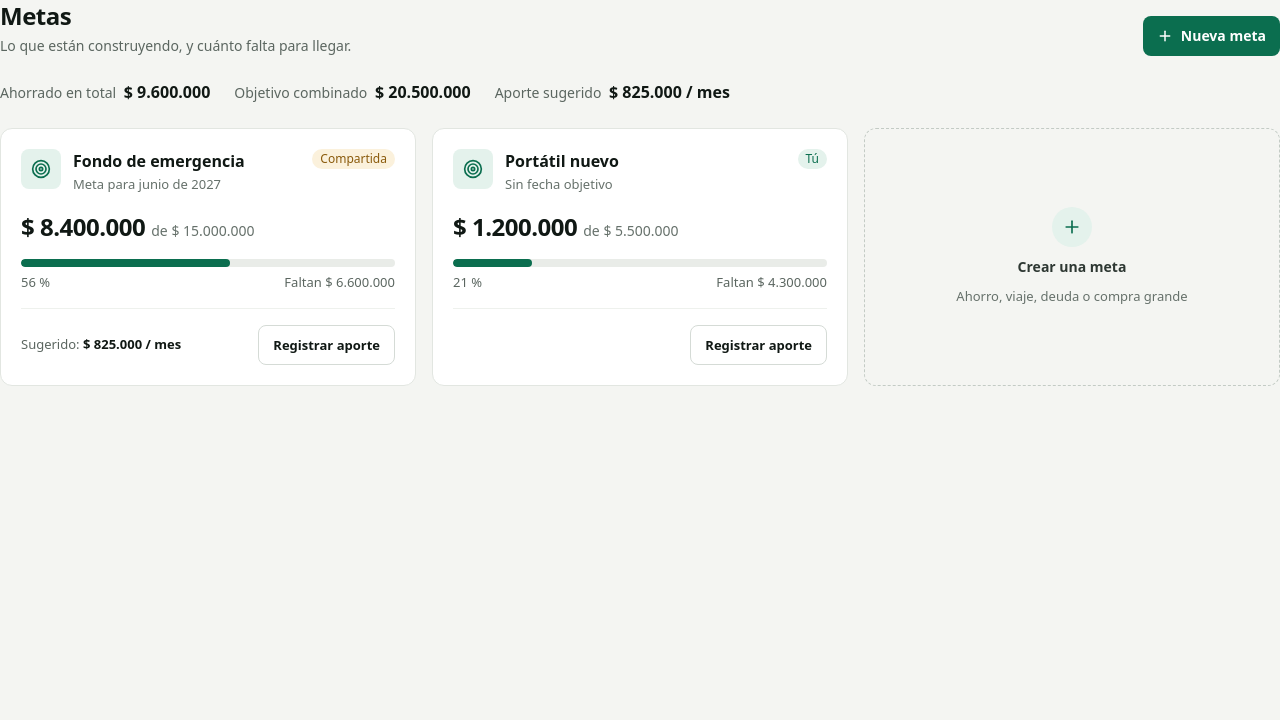
Test: GoalsView contributions › records a positive contribution for the goal
The image size is (1280, 720).
Click the button "Registrar aporte" in the row of "Sugerido:" at (327,345), box [258,325,395,365]
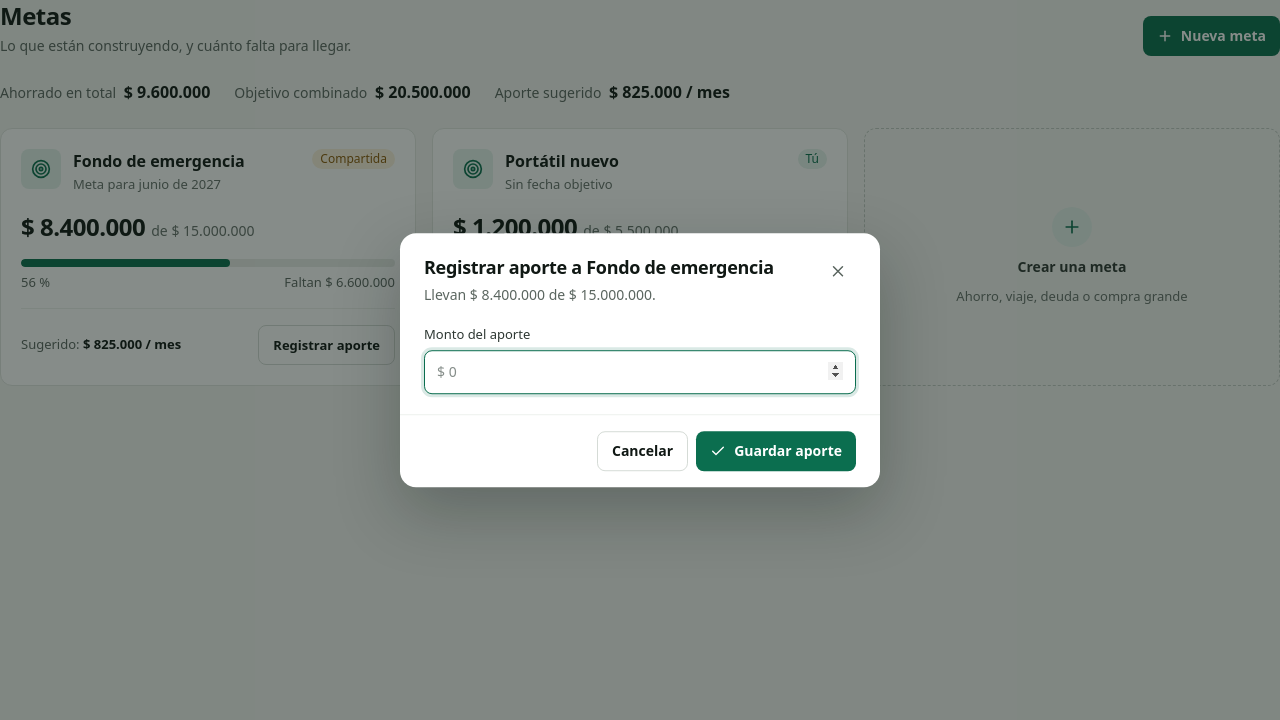
Type "500000" into the number field labelled "Monto del aporte" at (640,372), box [424,350,856,394]
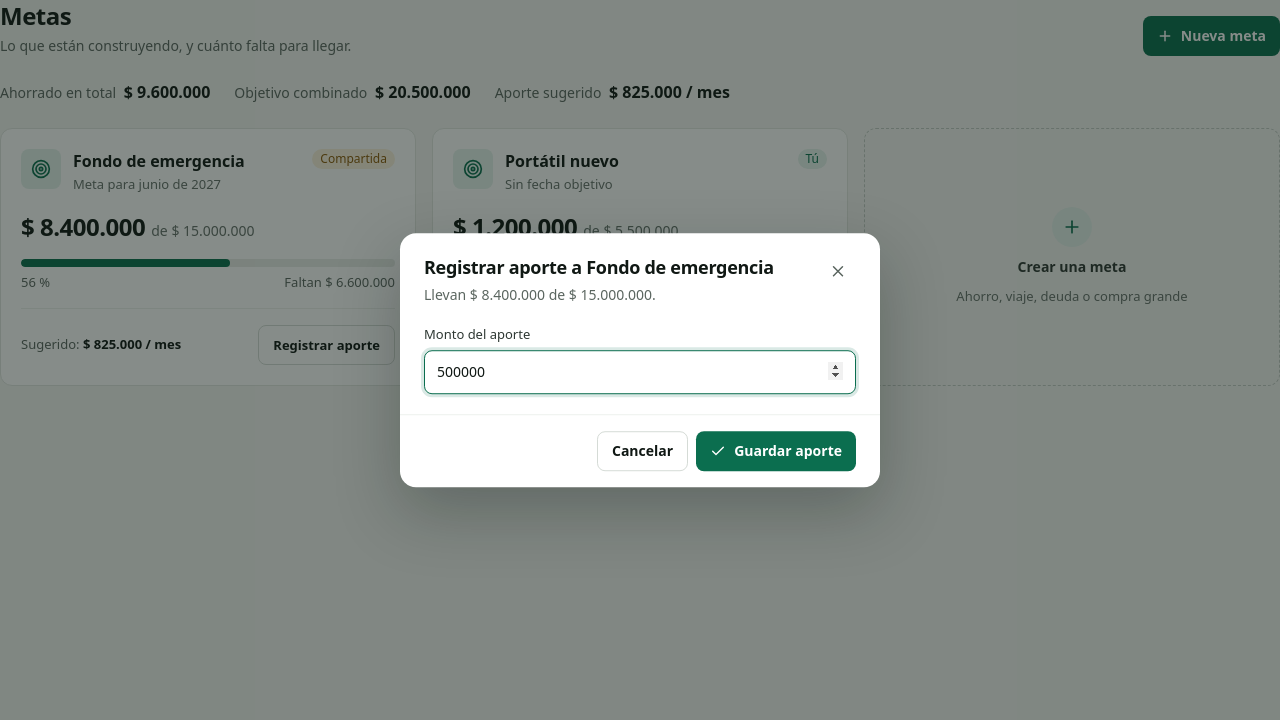
Click the button "Guardar aporte" at (776,451), box [696,431,856,471]
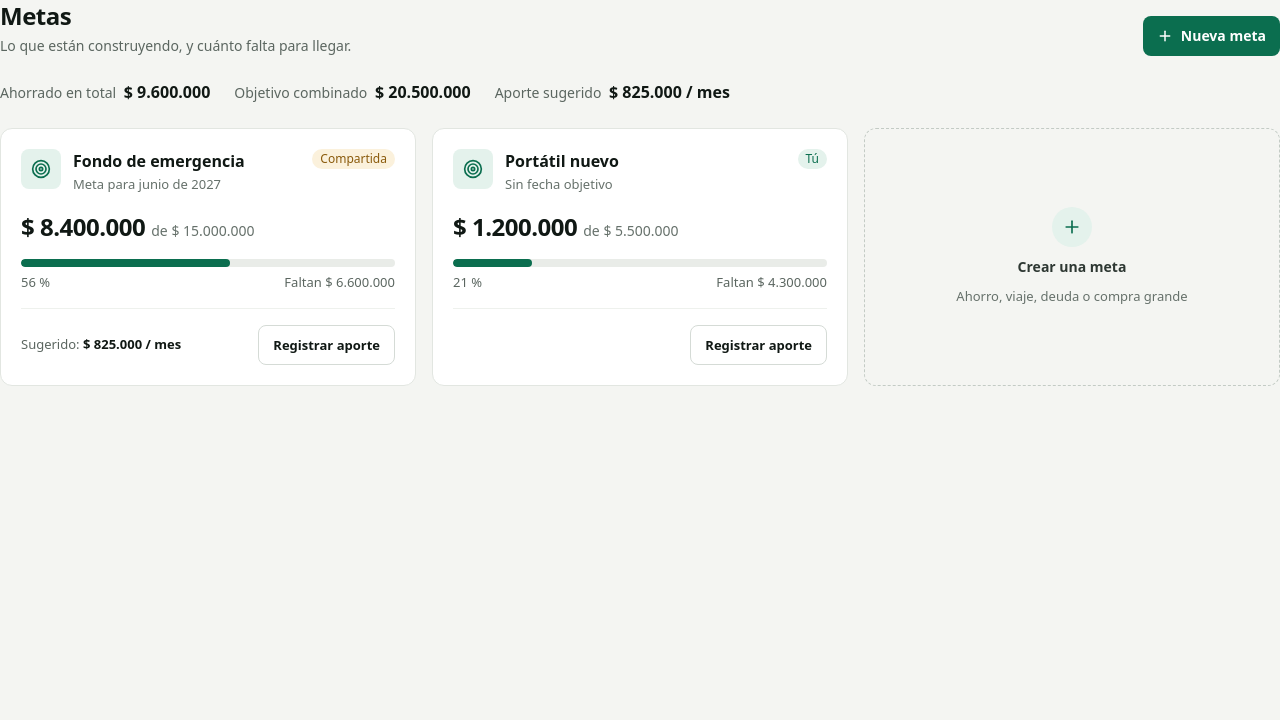
Result: the dialog is gone
